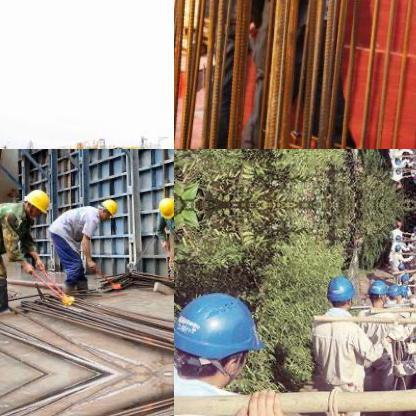Helmet: (174, 283, 268, 391), (326, 272, 354, 308), (21, 186, 50, 218), (365, 275, 385, 304), (93, 195, 117, 219), (154, 195, 173, 220), (385, 280, 399, 300)
